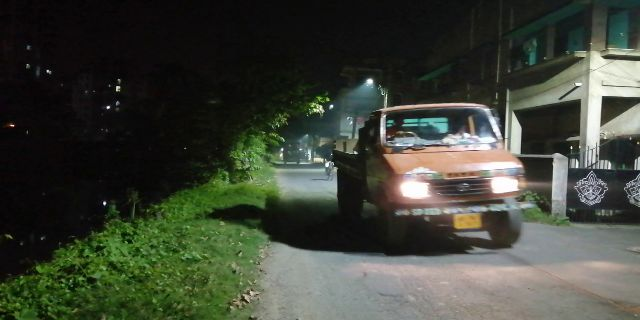Truck: (327, 98, 532, 251)
